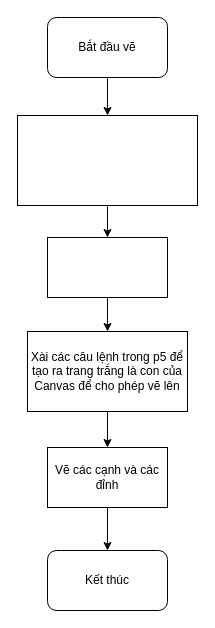
The diagram is 215 pixels wide and 628 high, and some of its shapes have lost their labels. Each missing label, with the centre of its shape:
"Sử dụng thư viện p5.js" goes at (x=107, y=267).
"Tạo 1 thực thể CanvasContainer là biến cha, và 1 thực thể Canvas là biến con" goes at (x=107, y=160).
